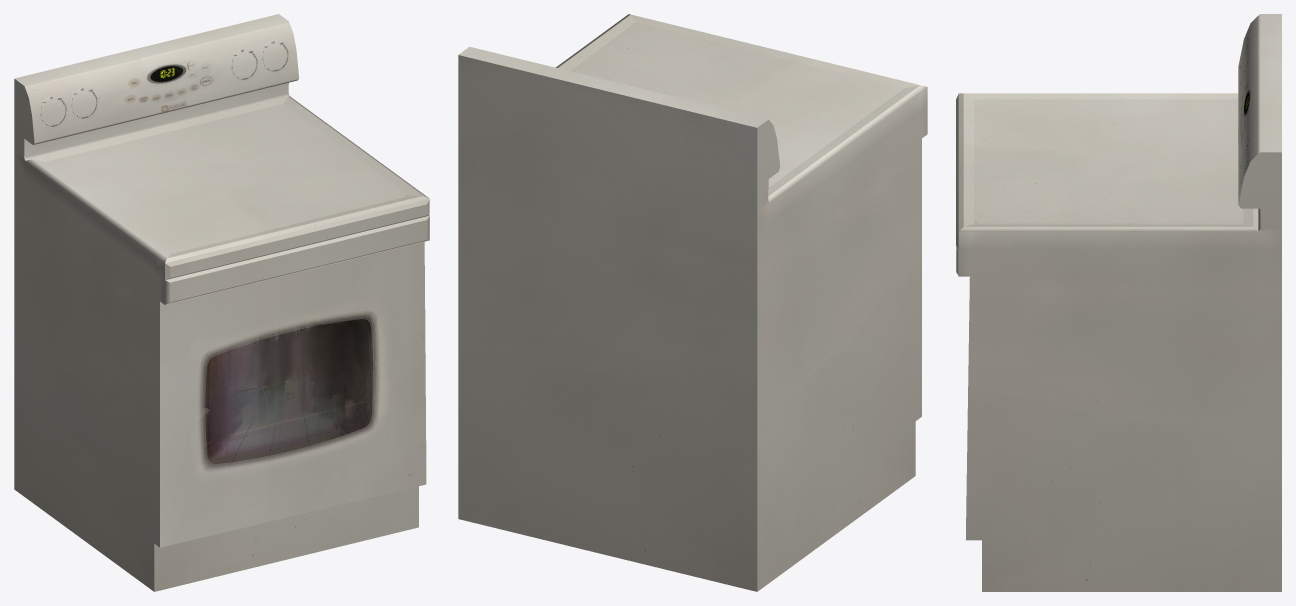
The model's file is Stove.fbx.
3 renders of one model, left to right at view 1: azimuth 30°, elevation 25°; view 2: azimuth 150°, elevation 25°; view 3: azimuth 270°, elevation 25°, orthographic. The views are drawn at different scales.
Visible parts, largest first — view 1: pCube320; view 2: pCube320; view 3: pCube320.
Part boxes in pixels (bbox=[...]): pCube320: bbox=[14, 14, 429, 591]; pCube320: bbox=[458, 14, 927, 591]; pCube320: bbox=[956, 14, 1281, 591].
Size of the model in its own units: 0.7587 by 1.13 by 0.7554.
Materials: 1 (1 with a texture image).
